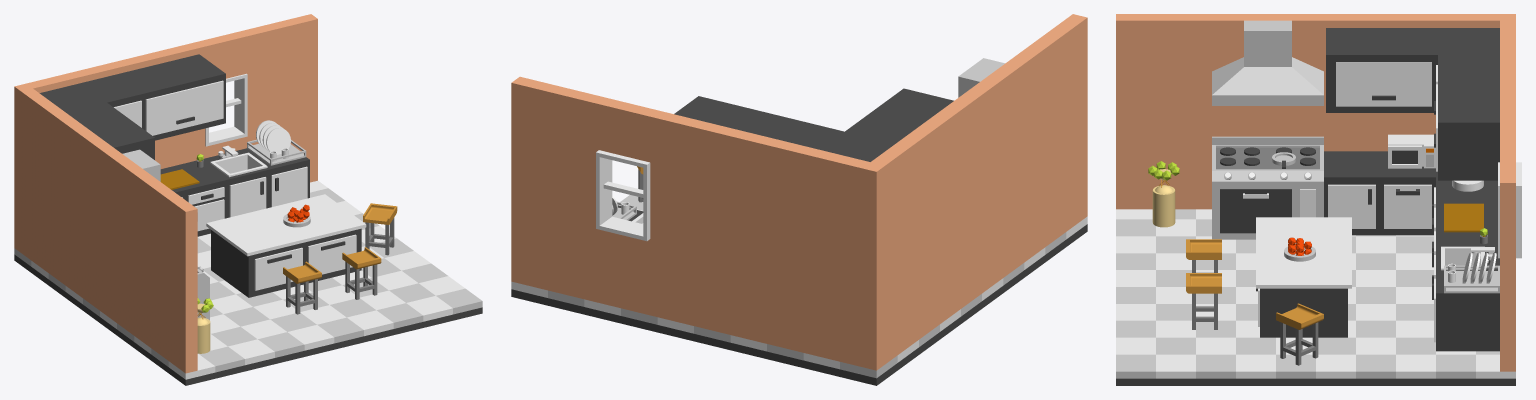
The picture shows the model from 3 angles, left to right: view 1: azimuth 30°, elevation 25°; view 2: azimuth 150°, elevation 25°; view 3: azimuth 270°, elevation 25°; orthographic projection. The views are drawn at different scales.
Visible parts, largest first — view 1: box (×52), cylinder (×2); view 2: box (×13); view 3: box (×86), wedge (×2), cornerPyramid4 (×2), cylinder.
Part boxes in pixels (box(x1,y1,x2,y2)): box (×52): box(14, 14, 482, 385); cylinder (×2): box(197, 128, 290, 353); box (×13): box(511, 14, 1087, 385); box (×86): box(1116, 14, 1521, 385); wedge (×2): box(1212, 67, 1323, 181); cornerPyramid4 (×2): box(1212, 67, 1323, 95); cylinder: box(1152, 185, 1175, 227).
Bounding box in the file's own units: 5 × 2.8 × 5.08.
